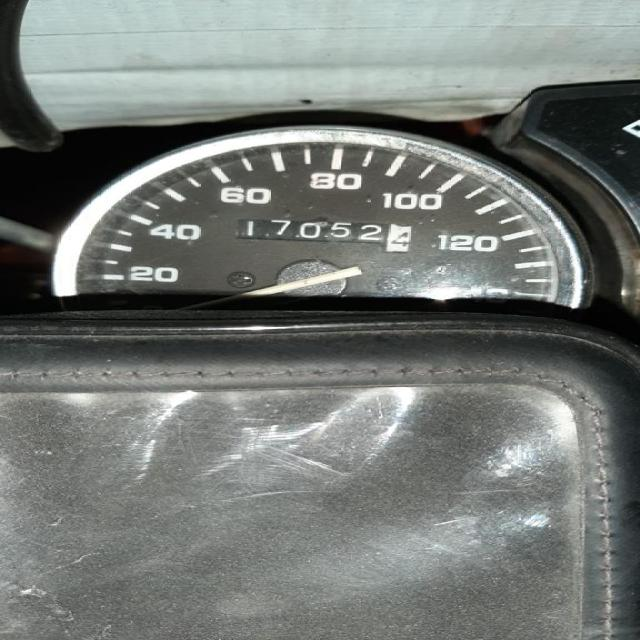odometer: (233, 218, 412, 253)
